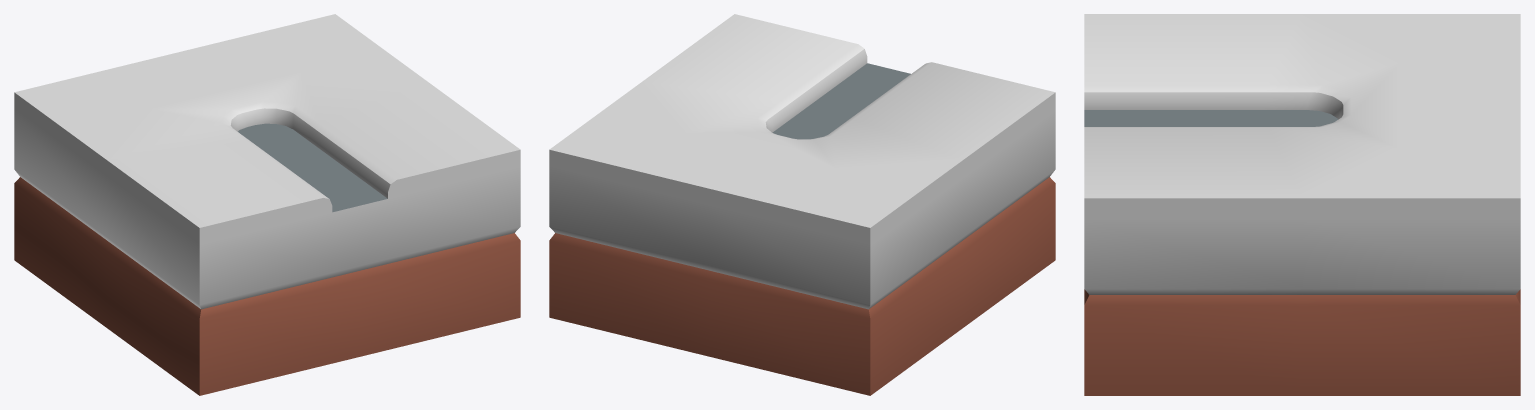
File: square_snow_roadA_detail.fbx
3 views of the same model, side by side, from view 1: azimuth 30°, elevation 25°; view 2: azimuth 150°, elevation 25°; view 3: azimuth 270°, elevation 25° (orthographic). The views are drawn at different scales.
Parts seen in each view (by area): view 1: square_snow_roadA_detail; view 2: square_snow_roadA_detail; view 3: square_snow_roadA_detail.
Part boxes in pixels (x1=…): square_snow_roadA_detail: x1=14, y1=14, x2=520, y2=395; square_snow_roadA_detail: x1=549, y1=14, x2=1055, y2=395; square_snow_roadA_detail: x1=1084, y1=14, x2=1520, y2=395.
Size of the model in its own units: 2 by 1 by 2.
